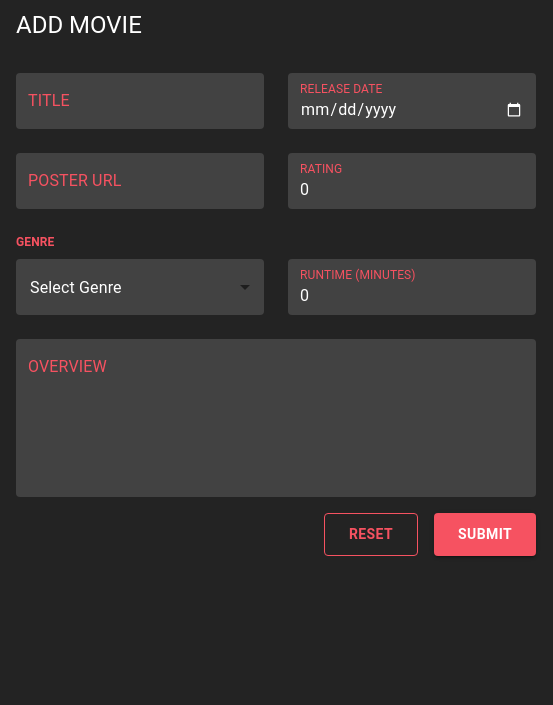
it: MovieForm › Form Validation › displays validation errors when submitting empty form
This screenshot has width=553, height=705.
Click the button "SUBMIT" at {"x": 485, "y": 534}, box [434,513,536,556]
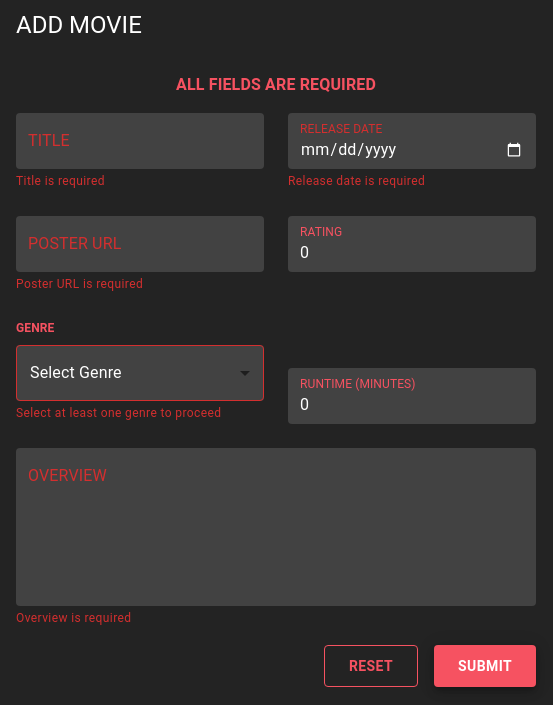
Expected: the text "Title is required" is shown, [16,174,105,188]
Expected: the text "Release date is required" is shown, [288,174,425,188]
Expected: the text "Poster URL is required" is shown, [16,277,143,291]
